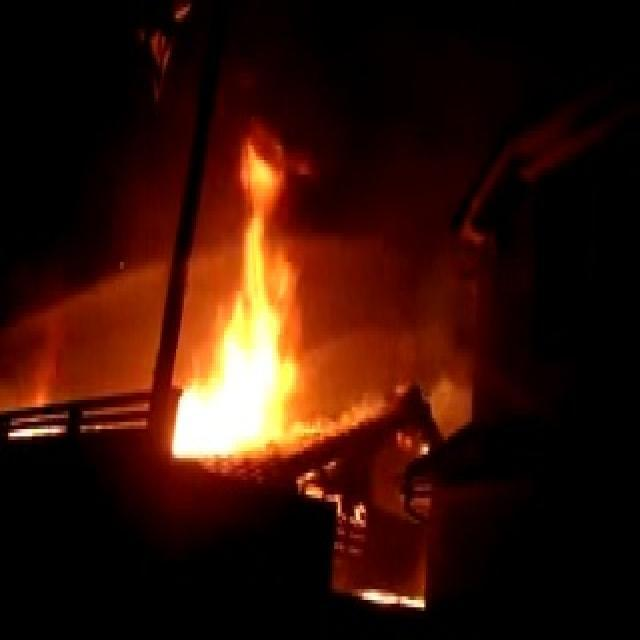Fire: (174, 138, 298, 458)
